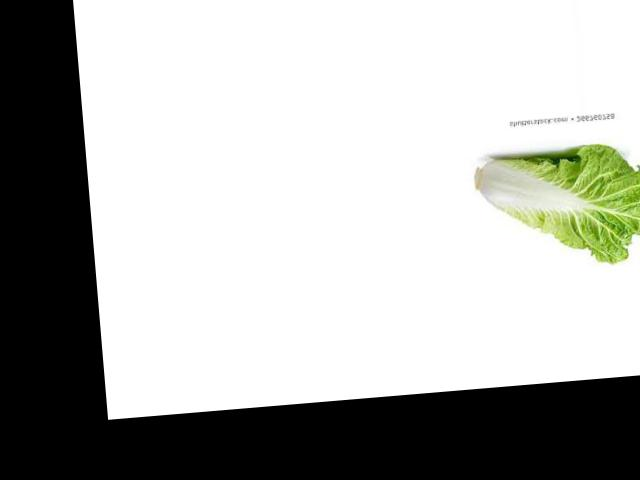lettuce: (478, 147, 640, 268)
